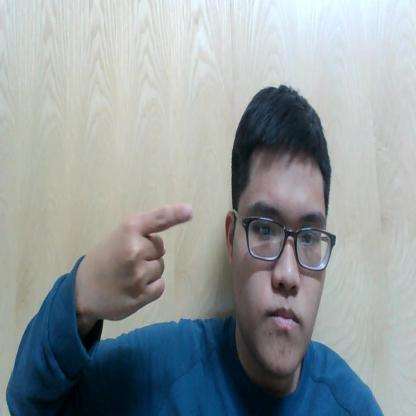left: (86, 195, 198, 325)
